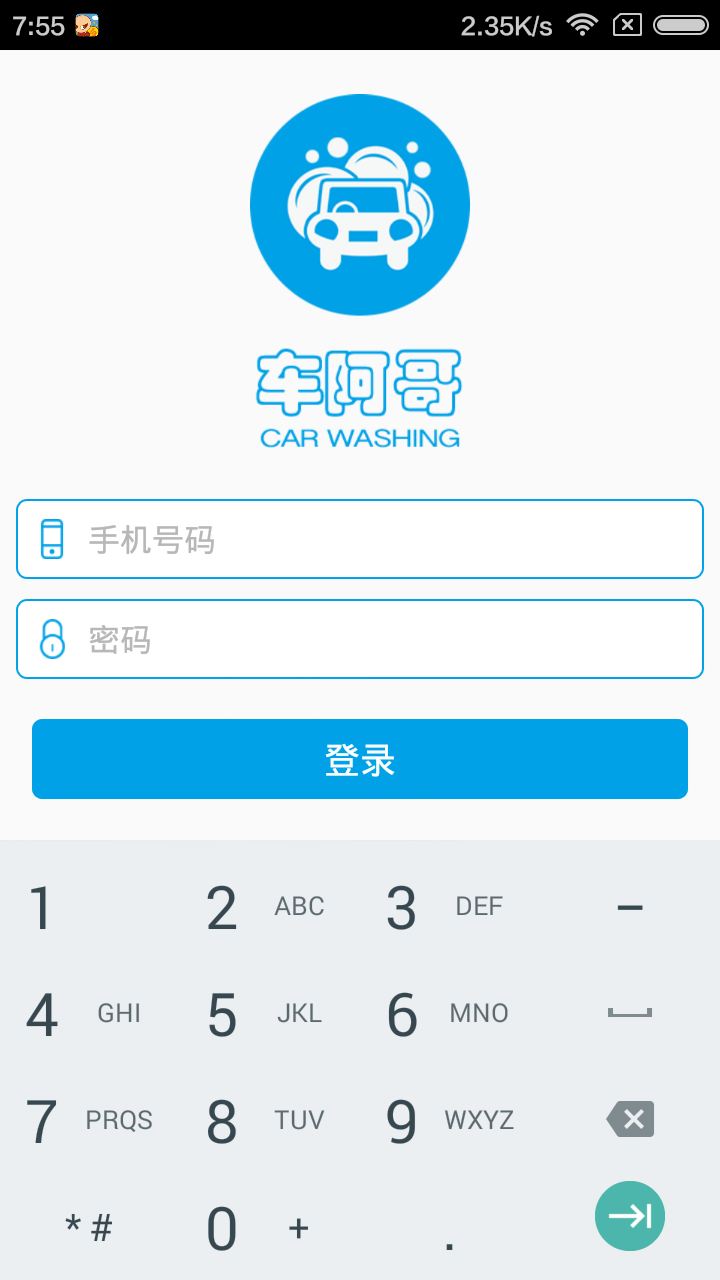imgbutton: (587, 1176, 667, 1260)
imgview: (233, 75, 487, 471)
